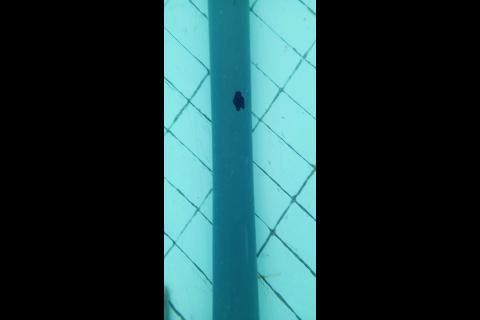kebocoran: (232, 90, 245, 112)
keretakan: (232, 0, 236, 7)
